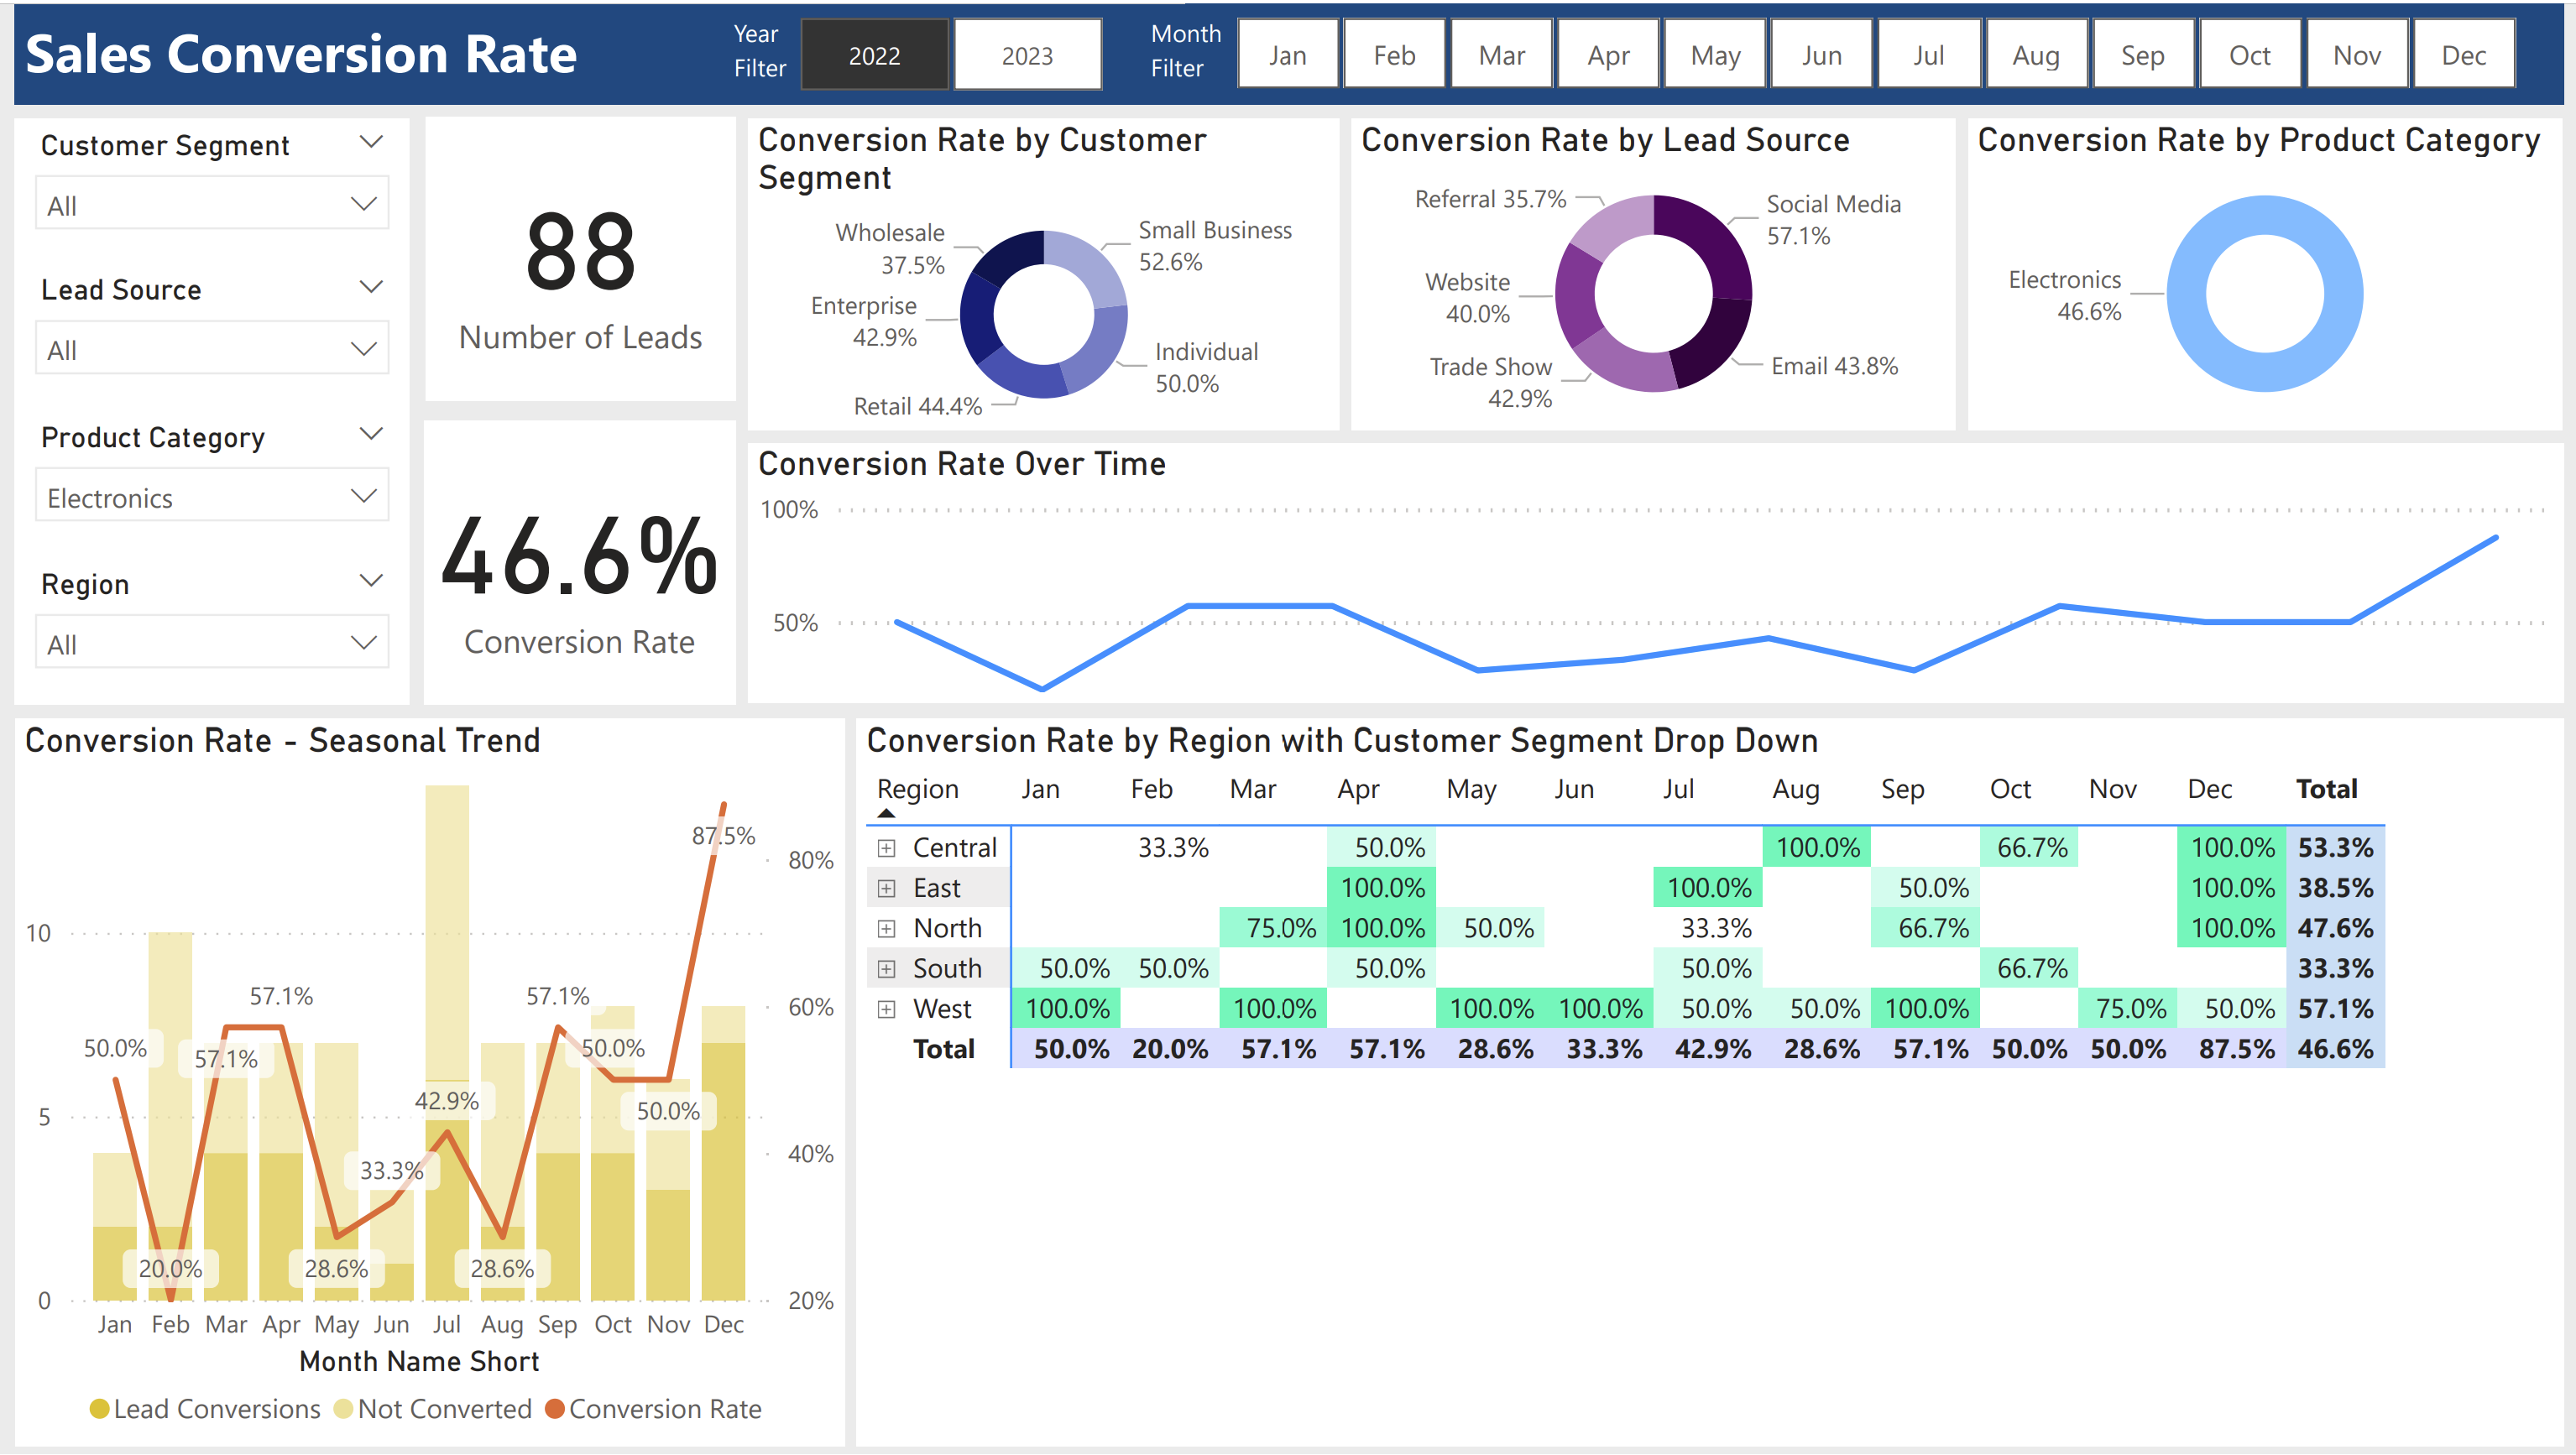

This screenshot's page, from the dashboard's own definition file:
{"tool":"powerbi","page":{"name":"Sales Conversion Rate","canvas":[1280,720],"ordinal":0},"visuals":[{"type":"textbox","box":[7.8,0,1266.1,49.7],"z":0},{"type":"slicer","fields":{"Values":["Data.Customer Segment"]},"box":[8.1,56.8,195.9,72.3],"z":1000},{"type":"slicer","fields":{"Values":["Data.Product Category"]},"box":[7.9,201.9,196.3,72.7],"z":2000},{"type":"slicer","fields":{"Values":["Data.Lead Source"]},"box":[7.9,129.2,196.3,72.7],"z":3000},{"type":"slicer","fields":{"Values":["Data.Region"]},"box":[7.9,275,196.3,72.7],"z":4000},{"type":"card","fields":{"Values":["Data.Number of Leads"]},"box":[211.7,56.3,154.4,140.8],"z":5000},{"type":"card","fields":{"Values":["Data.Conversion Rate"]},"box":[211.2,207,154.6,140.6],"z":6000},{"type":"slicer","fields":{"Values":["Date Table.Year"]},"box":[372,0,200,49.7],"z":7000},{"type":"slicer","fields":{"Values":["Date Table.Month Name Short"]},"box":[588.9,0,684.7,48.6],"z":8000},{"type":"textbox","box":[567.2,0,66.4,49],"z":9000},{"type":"textbox","box":[360.2,0,60.1,51.8],"z":10000},{"type":"donutChart","fields":{"Y":["Data.Conversion Rate"],"Category":["Data.Product Category"]},"box":[978.4,56.6,295.1,155.3],"z":11000},{"type":"donutChart","fields":{"Y":["Data.Conversion Rate"],"Category":["Data.Customer Segment"]},"box":[372,56.6,293.7,155.3],"z":12000},{"type":"donutChart","fields":{"Y":["Data.Conversion Rate"],"Category":["Data.Lead Source"]},"box":[672.1,56.6,300,155.3],"z":13000},{"type":"lineStackedColumnComboChart","title":"Conversion Rate - Seasonal Trend","fields":{"Category":["Date Table.Month Name Short"],"Y":["Data.Number of Lead Conversions","Data.Number of Leads No Conversion"],"Y2":["Data.Conversion Rate"]},"box":[8.1,355.4,412.2,360.1],"z":14000},{"type":"pivotTable","title":"Conversion Rate by Region with Customer Segment Drop Down","fields":{"Rows":["Data.Region","Data.Customer Segment"],"Columns":["Date Table.Month Name Short"],"Values":["Data.Conversion Rate"]},"box":[426.4,355.4,847.3,360.1],"z":15000},{"type":"lineChart","title":"Conversion Rate Over Time","fields":{"Category":["Date Table.Year","Date Table.Month Name Short"],"Y":["Data.Conversion Rate"]},"box":[372.3,217.6,902,129.7],"z":16000}]}

Visuals, with their boxes in screenshot pixels (x1, y1, x2, y2), scaled from the page's 1280x720 canvas onto the 2576x1455 screenshot:
textbox: (x1=16, y1=0, x2=2563, y2=101)
slicer - Data.Customer Segment: (x1=16, y1=115, x2=410, y2=261)
slicer - Data.Product Category: (x1=16, y1=408, x2=411, y2=555)
slicer - Data.Lead Source: (x1=16, y1=261, x2=411, y2=408)
slicer - Data.Region: (x1=16, y1=555, x2=411, y2=702)
card - Data.Number of Leads: (x1=426, y1=114, x2=737, y2=399)
card - Data.Conversion Rate: (x1=425, y1=419, x2=736, y2=702)
slicer - Date Table.Year: (x1=749, y1=0, x2=1151, y2=101)
slicer - Date Table.Month Name Short: (x1=1185, y1=0, x2=2563, y2=98)
textbox: (x1=1142, y1=0, x2=1275, y2=99)
textbox: (x1=725, y1=0, x2=846, y2=105)
donutChart - Data.Conversion Rate x Data.Product Category: (x1=1969, y1=114, x2=2563, y2=428)
donutChart - Data.Conversion Rate x Data.Customer Segment: (x1=749, y1=114, x2=1340, y2=428)
donutChart - Data.Conversion Rate x Data.Lead Source: (x1=1352, y1=114, x2=1957, y2=428)
"Conversion Rate - Seasonal Trend" lineStackedColumnComboChart: (x1=16, y1=718, x2=846, y2=1446)
"Conversion Rate by Region with Customer Segment Drop Down" pivotTable: (x1=858, y1=718, x2=2563, y2=1446)
"Conversion Rate Over Time" lineChart: (x1=750, y1=440, x2=2564, y2=701)
